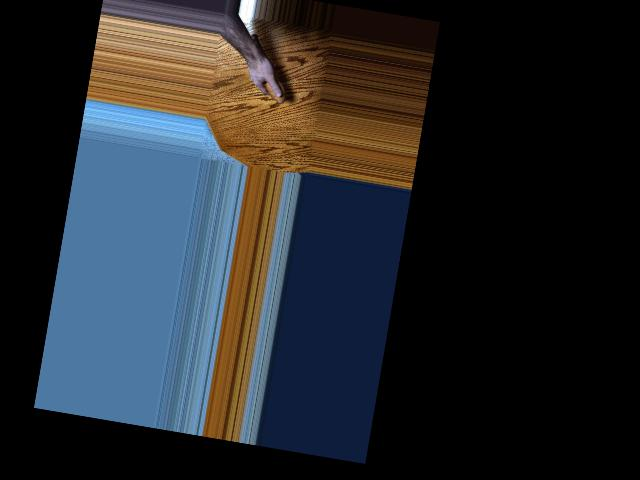sweet_potato: (241, 32, 296, 105)
